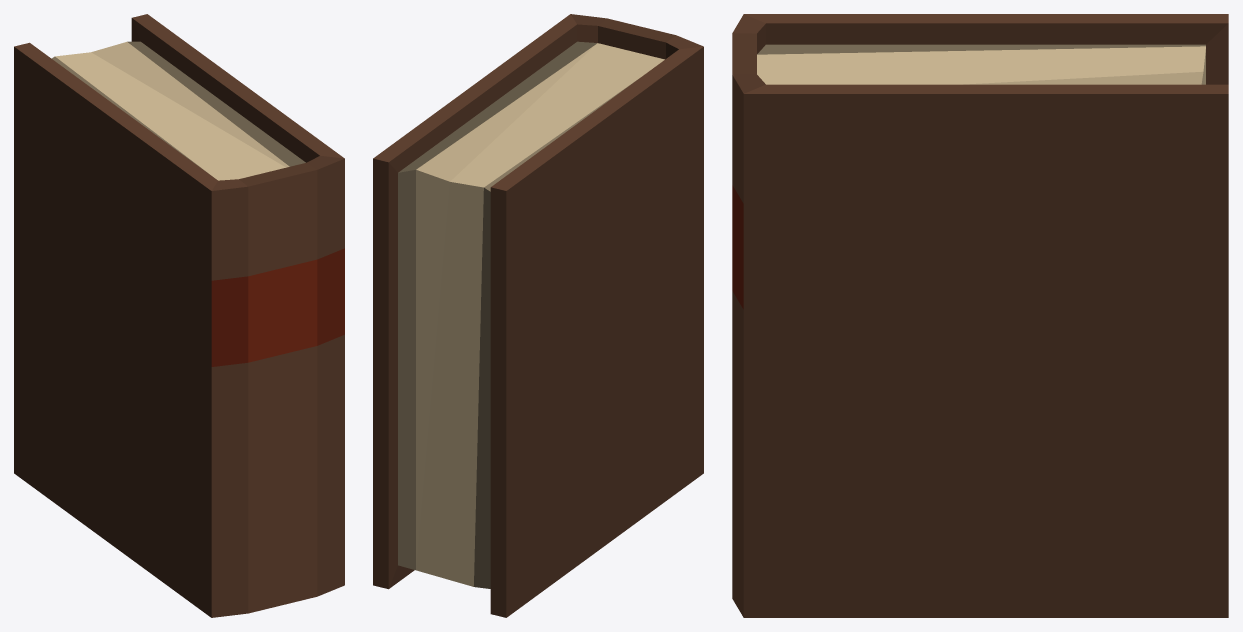
Rendered from Prop_BookC.fbx.
3 views of the same model, side by side, from view 1: azimuth 30°, elevation 25°; view 2: azimuth 150°, elevation 25°; view 3: azimuth 270°, elevation 25° (orthographic). The views are drawn at different scales.
Parts seen in each view (by area): view 1: Prop_BookC; view 2: Prop_BookC; view 3: Prop_BookC.
Part boxes in pixels (left/top/right/bottom): Prop_BookC: left=14, top=14, right=344, bottom=617; Prop_BookC: left=373, top=14, right=703, bottom=617; Prop_BookC: left=732, top=14, right=1228, bottom=617.
Bounding box in the file's own units: 8.48 × 25.92 × 22.25.
